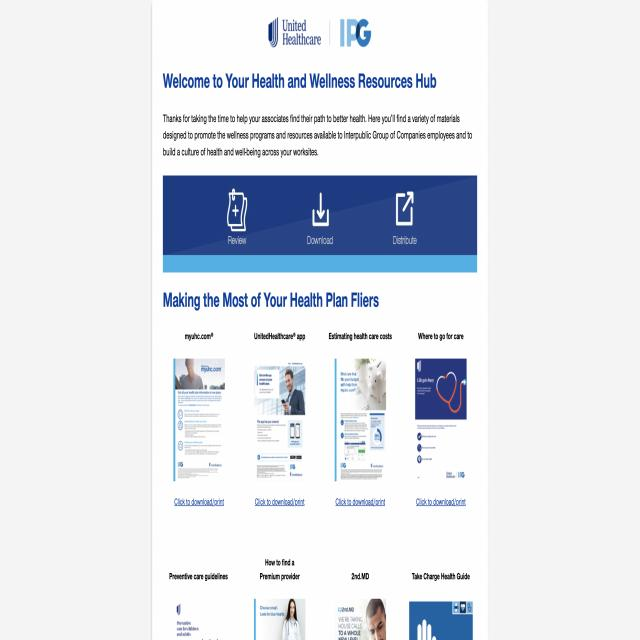Logo: (264, 0, 328, 61)
